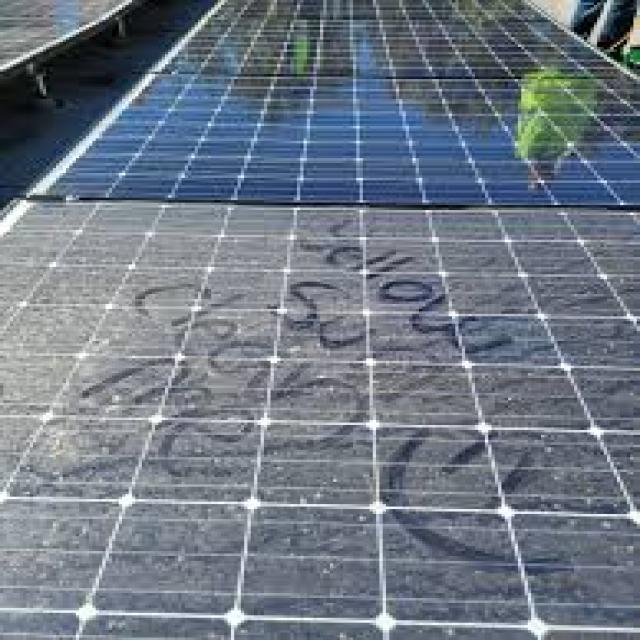faulty: (0, 184, 640, 640)
